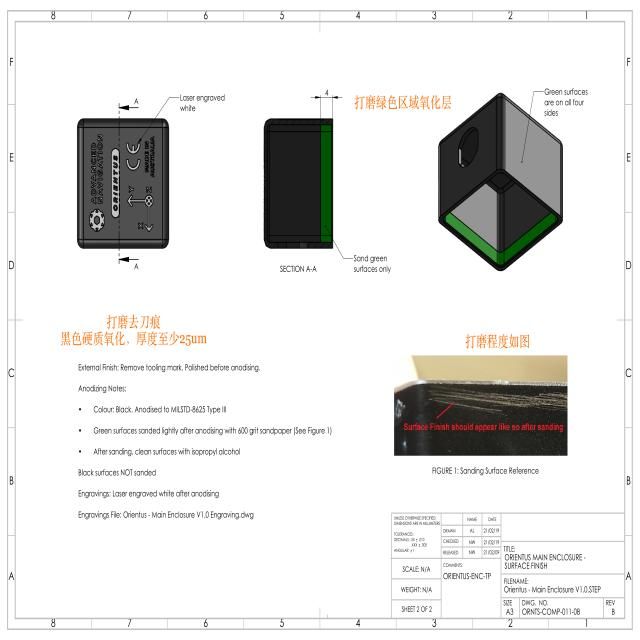dimension: (310, 88, 343, 123)
